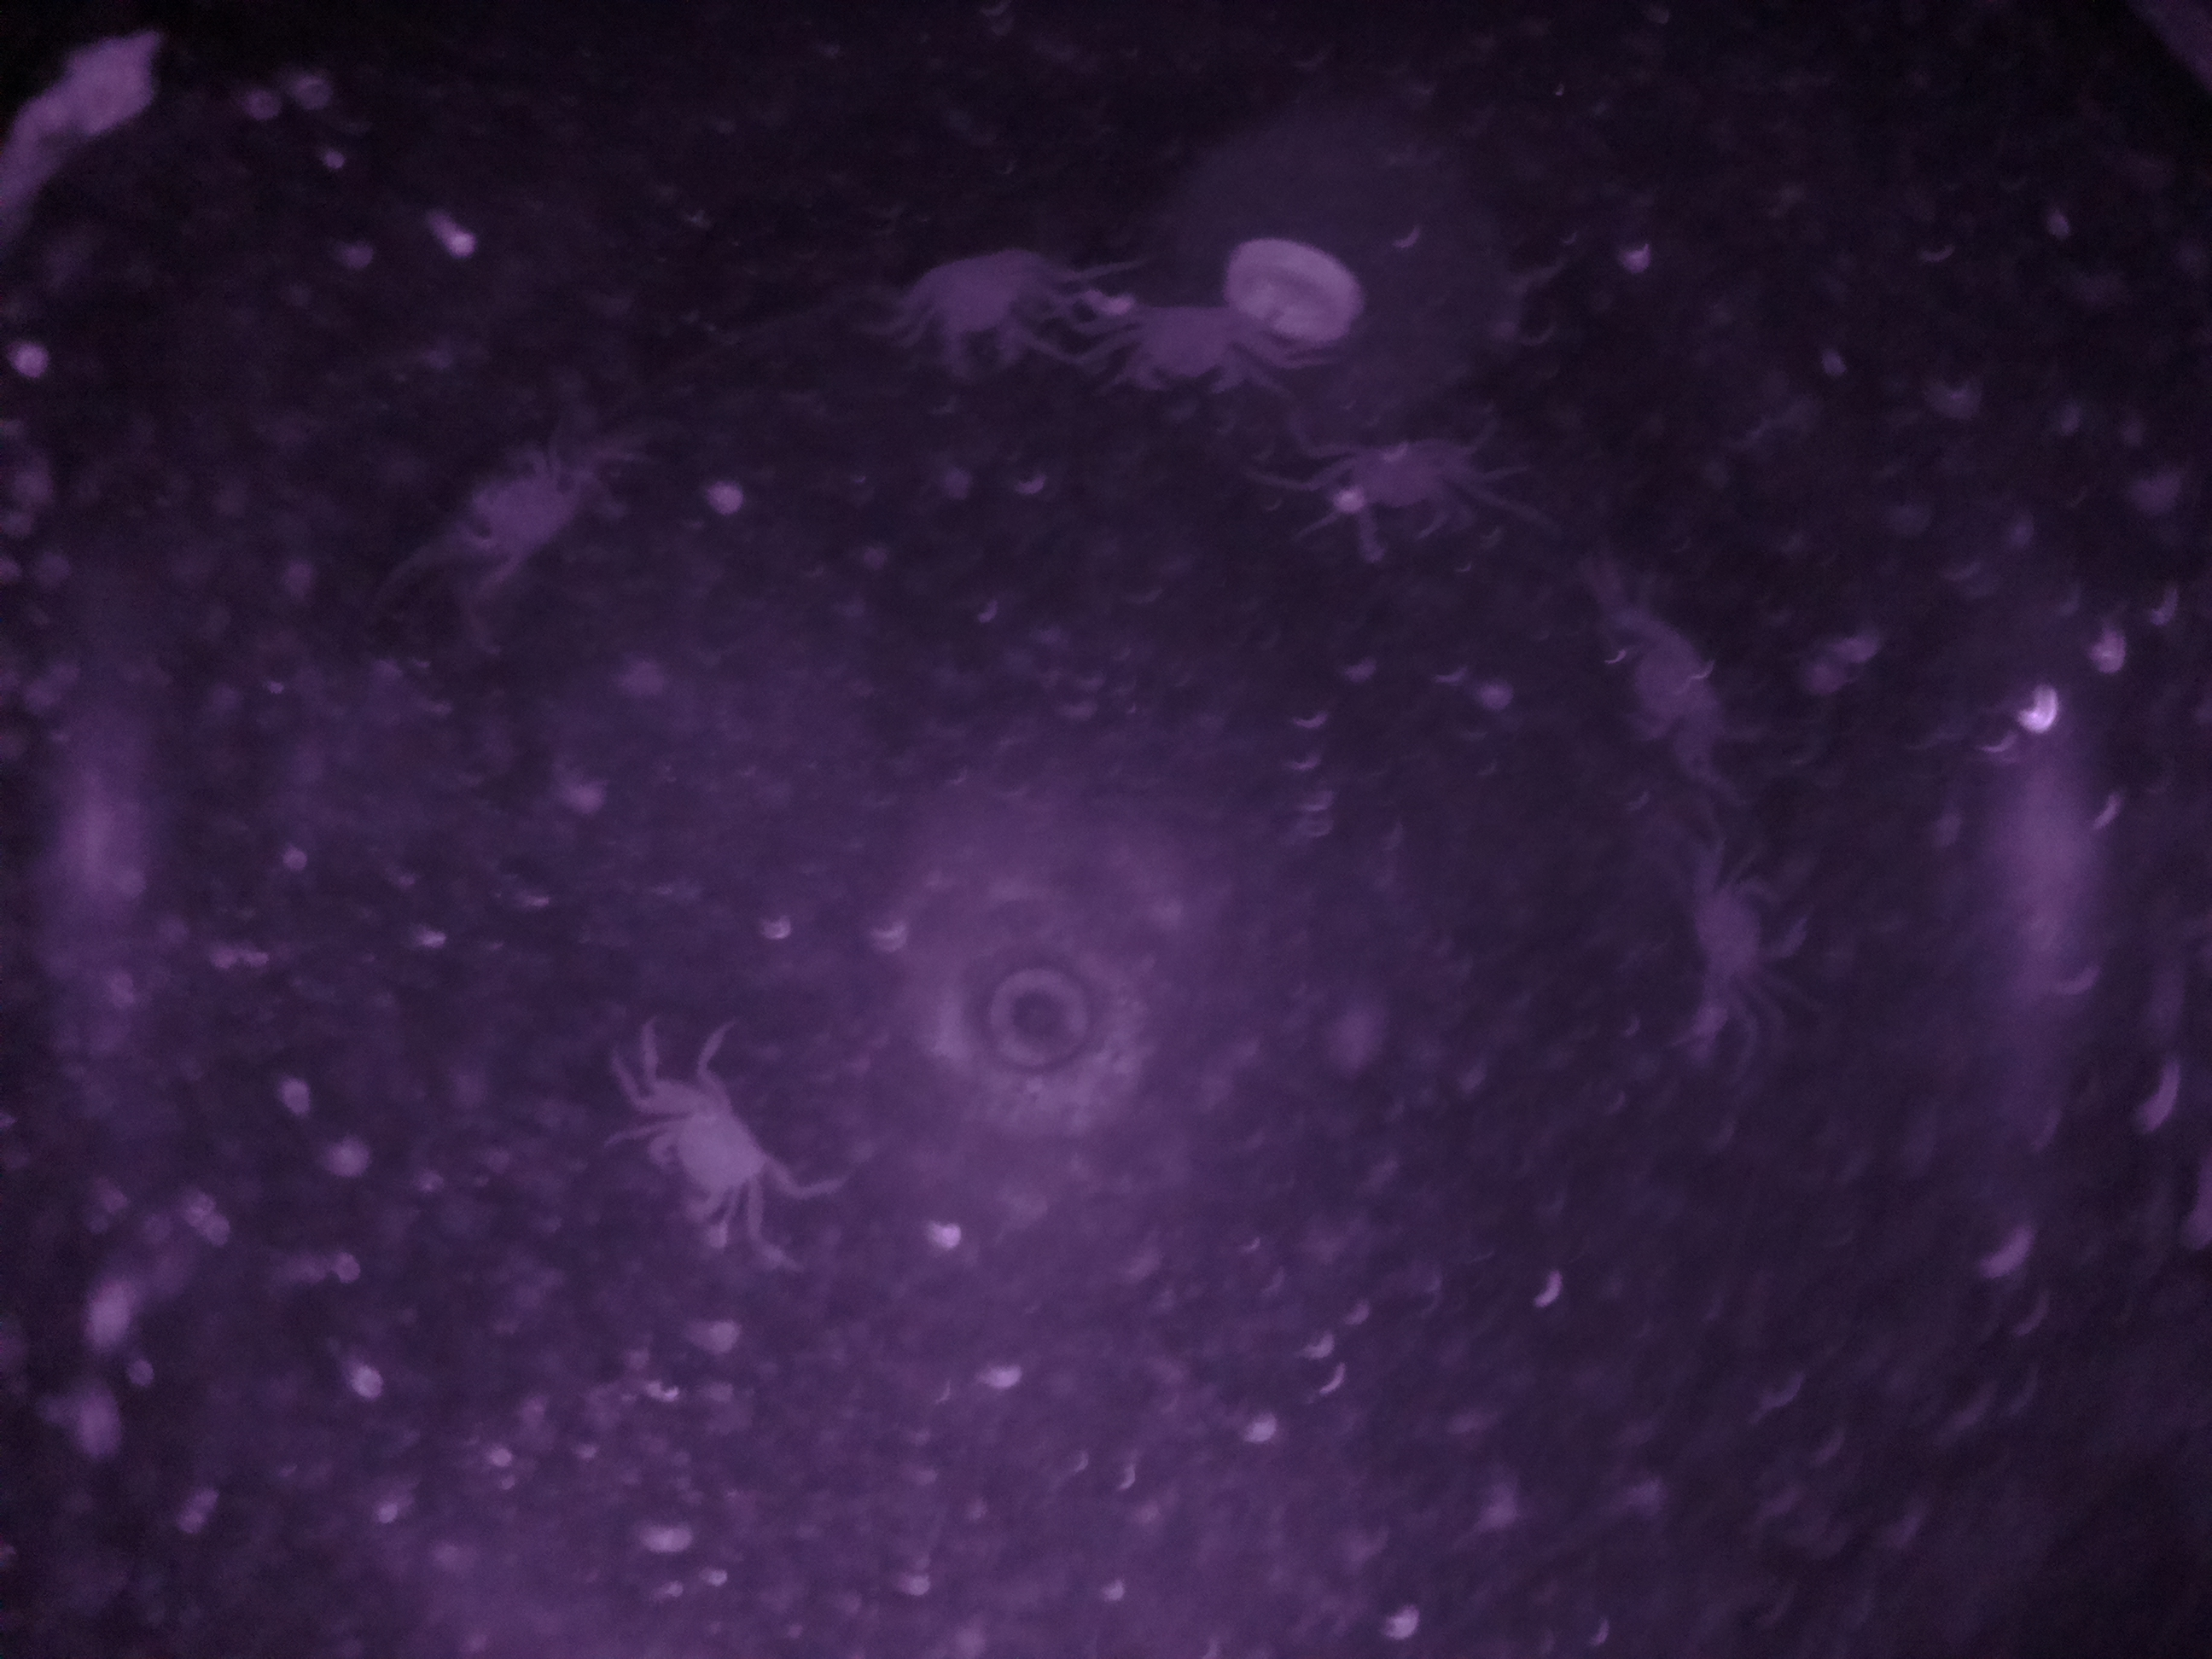Crab: (617, 1037, 824, 1270)
